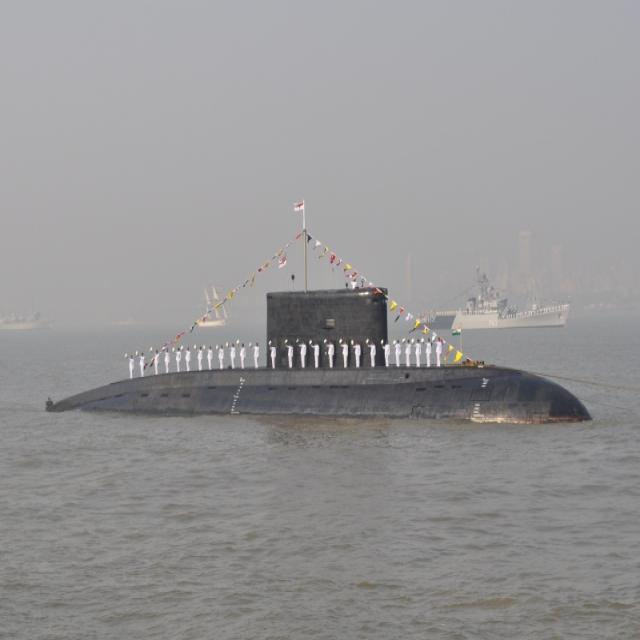submarine: (48, 289, 595, 424)
